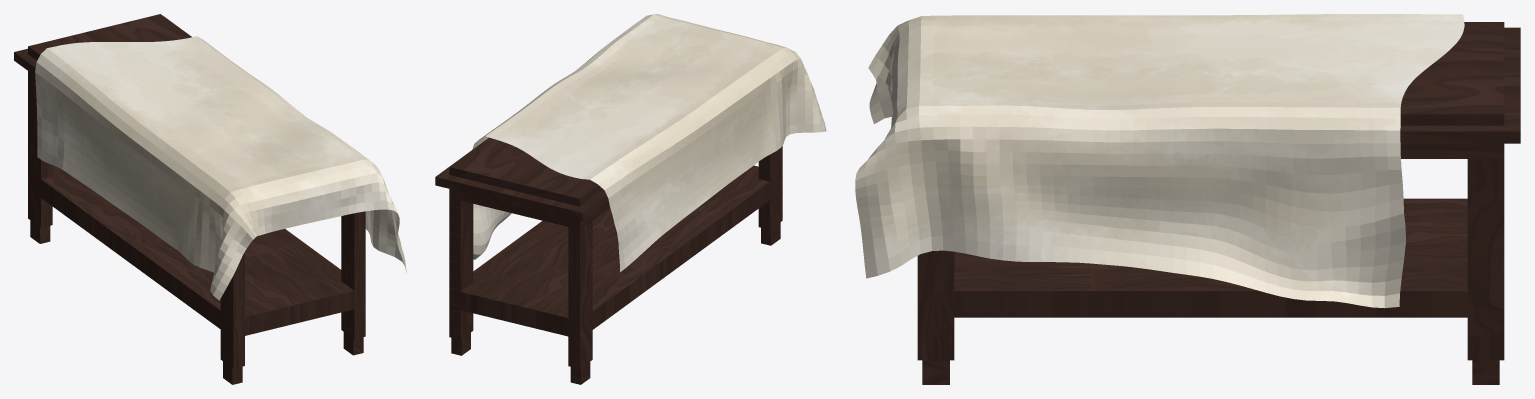
The model's file is örtülü 2.fbx.
The picture shows the model from 3 angles, left to right: view 1: azimuth 30°, elevation 25°; view 2: azimuth 150°, elevation 25°; view 3: azimuth 270°, elevation 25°; orthographic projection. The views are drawn at different scales.
Parts seen in each view (by area): view 1: Grid.011, Cube.113; view 2: Grid.011, Cube.113; view 3: Grid.011, Cube.113.
Boxes of the visible parts, x1,y1,x2,y2 form: Grid.011: (35, 36, 406, 300); Cube.113: (14, 14, 365, 384); Grid.011: (472, 14, 826, 271); Cube.113: (435, 137, 782, 384); Grid.011: (855, 14, 1464, 308); Cube.113: (917, 22, 1520, 384).
Bounding box in the file's own units: 157 × 155 × 333.
Materials: 2 (2 with a texture image).
